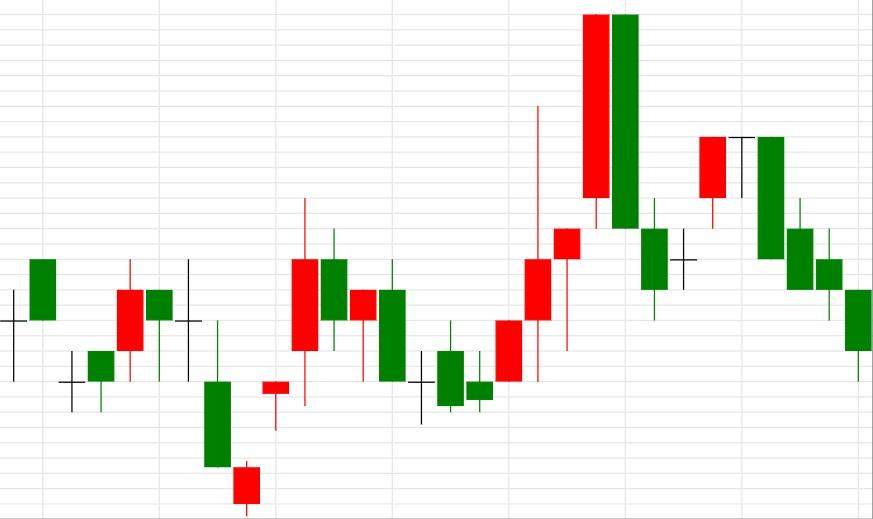bearish_engulfing_fall: (407, 14, 640, 425), (233, 198, 407, 517)
evening_star_fall: (639, 135, 785, 320)
